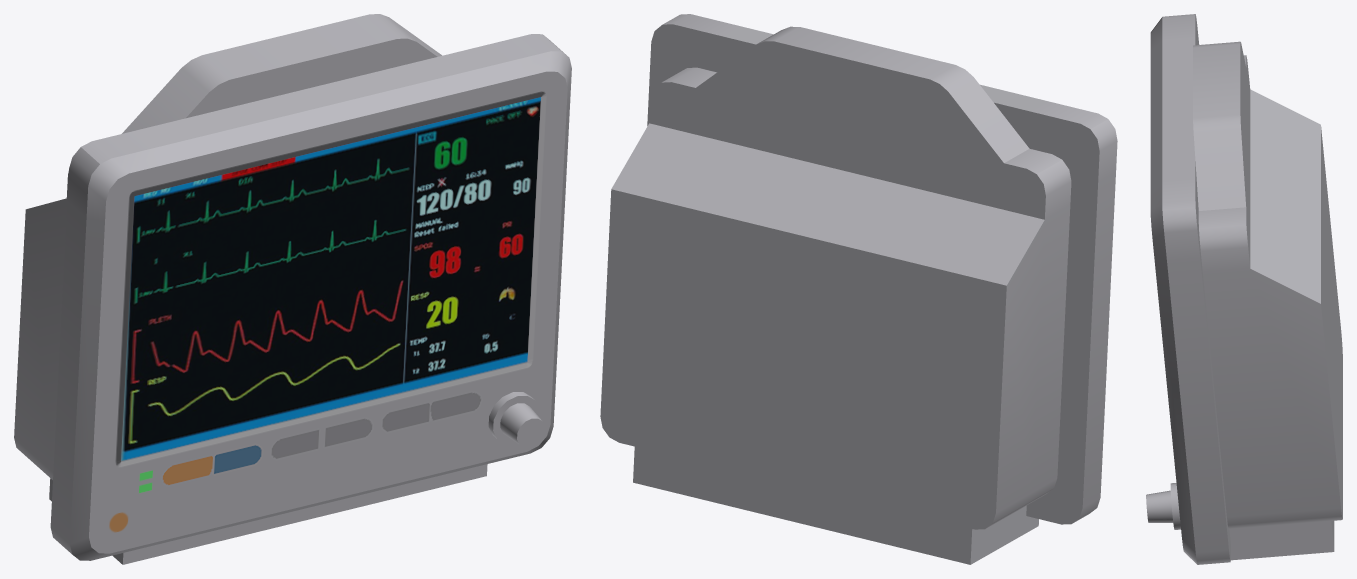
File: BCMM_Monitor.fbx
The picture shows the model from 3 angles, left to right: view 1: azimuth 30°, elevation 25°; view 2: azimuth 150°, elevation 25°; view 3: azimuth 270°, elevation 25°; orthographic projection. The views are drawn at different scales.
Parts seen in each view (by area): view 1: BCMM_Monitor; view 2: BCMM_Monitor; view 3: BCMM_Monitor.
Part boxes in pixels (<box>): BCMM_Monitor: <box>14,14,571,564</box>; BCMM_Monitor: <box>600,14,1117,564</box>; BCMM_Monitor: <box>1146,14,1342,564</box>.
Size of what is drawn, in the model's own units: 28 by 26.1 by 11.46.
